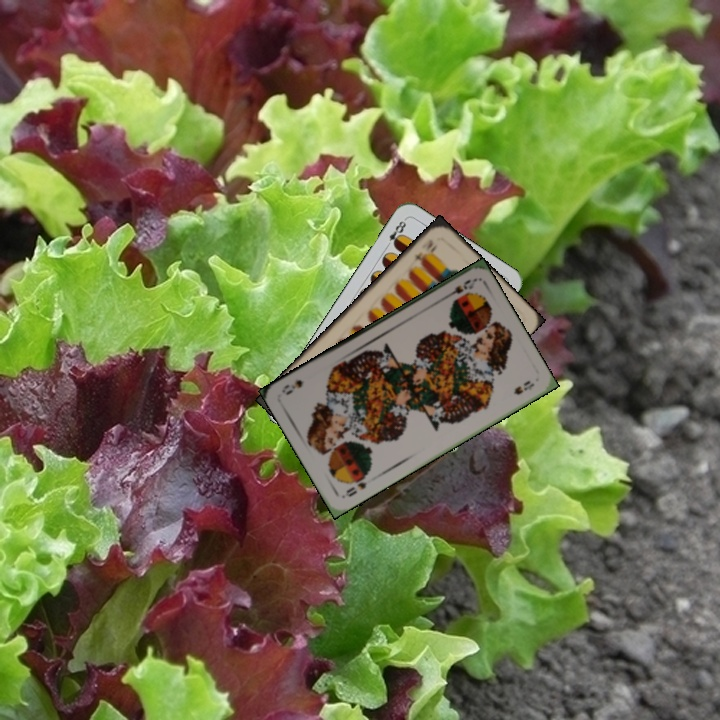E10: (410, 235, 441, 266)
E8: (381, 215, 409, 251)
SO: (440, 275, 478, 302), (339, 473, 370, 500)
